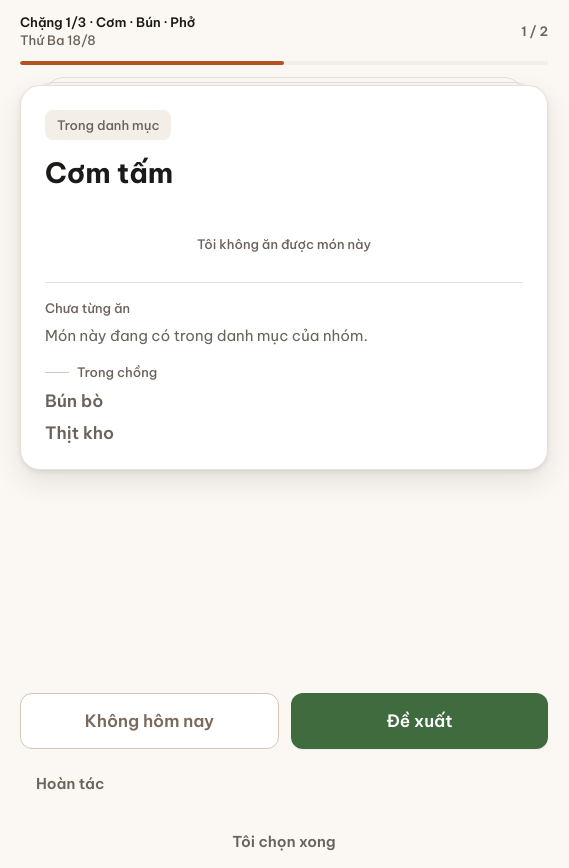
Test case: S-09 Deck vuốt › E9-T5 — Giao diện duyệt theo chặng › cursor = 4, bấm "Quay lại chặng trước" -> cursor = 2, không gọi fetch
Step 1. Click the button with aria-label "Đề xuất Cơm tấm" → (420, 721), box [291,693,548,749]
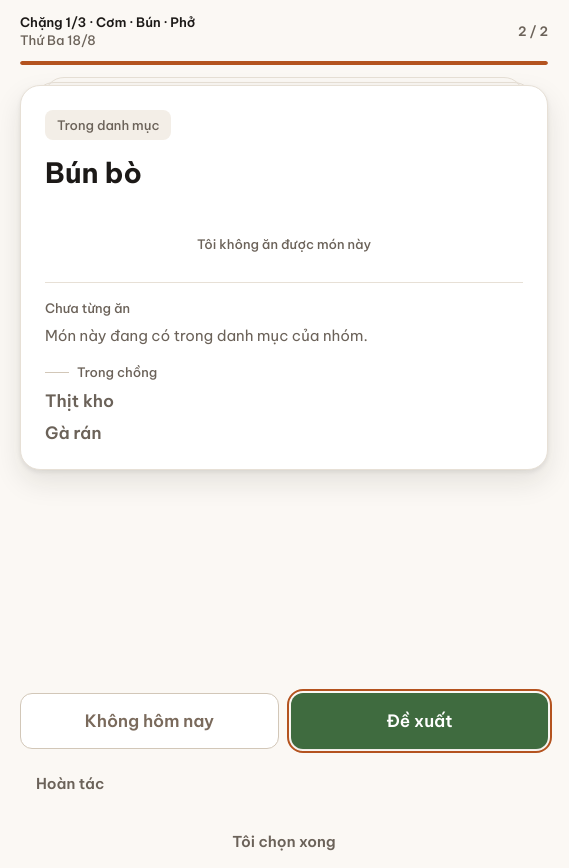
Step 2. Click the button with aria-label "Đề xuất Bún bò" → (420, 721), box [291,693,548,749]
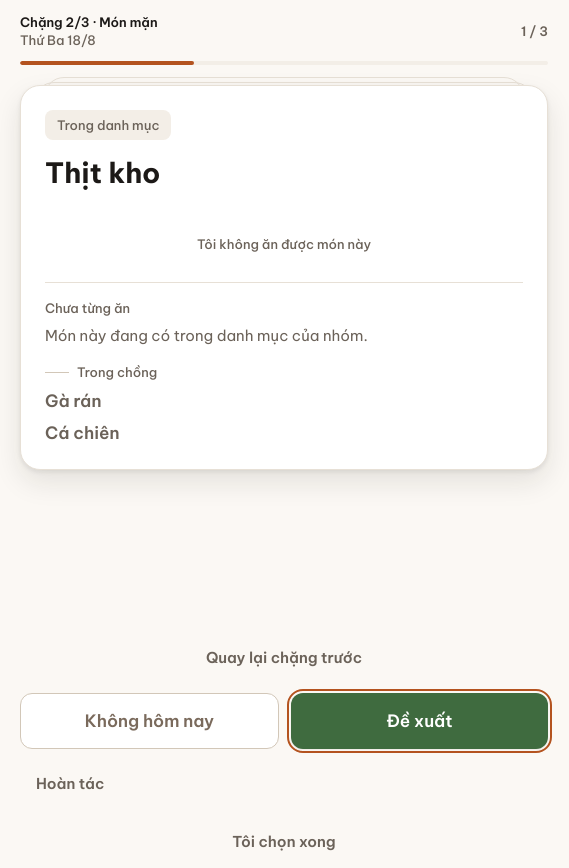
Step 3. Click the button with aria-label "Đề xuất Thịt kho" → (420, 721), box [291,693,548,749]
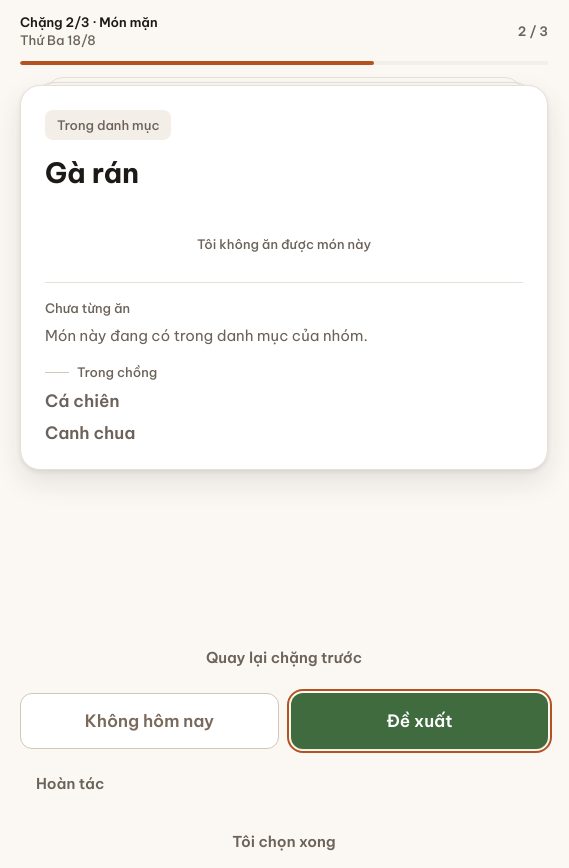
Step 4. Click the button with aria-label "Đề xuất Gà rán" → (420, 721), box [291,693,548,749]
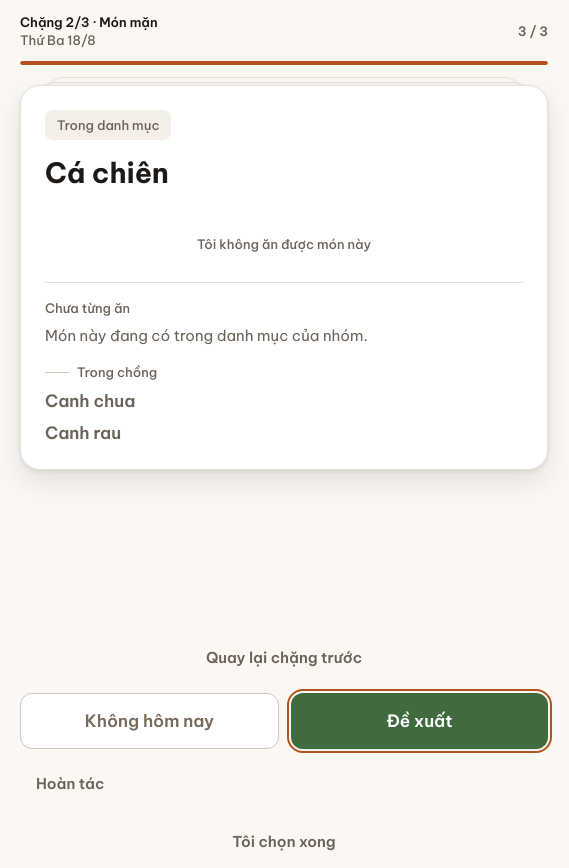
Expected: the heading "Cá chiên" is shown, [45,155,169,190]
Expected: the text "3 / 3" is shown, [518,22,548,40]
Bấm "Quay lại chặng trước"
Step 5. Click the button "Quay lại chặng trước" → (284, 658), box [190,635,378,681]
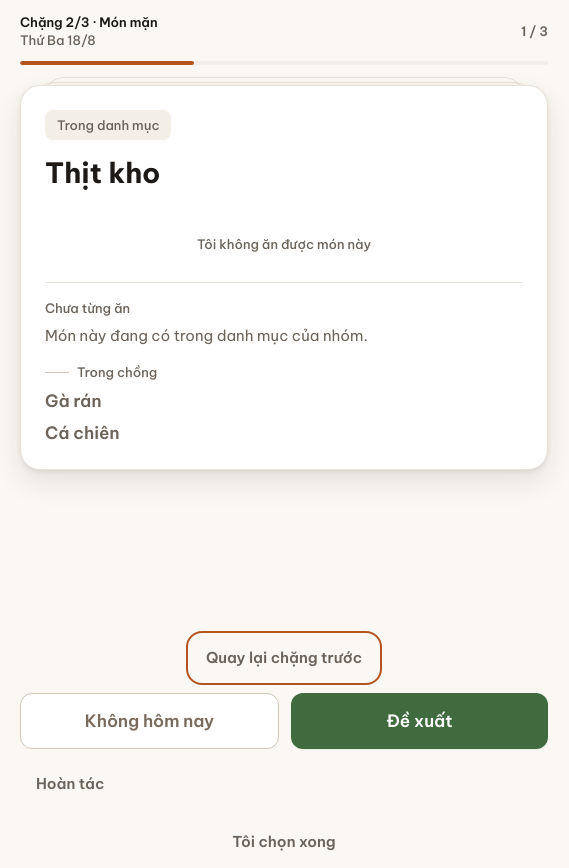
Expected: the heading "Thịt kho" is shown, [45,155,160,190]
Expected: the text "1 / 3" is shown, [521,22,548,40]
